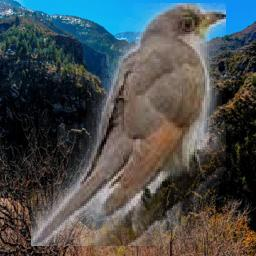Cuckoo: (32, 4, 227, 247)
